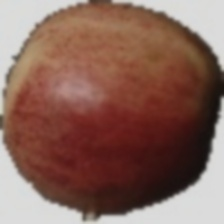apple: (18, 6, 175, 187)
